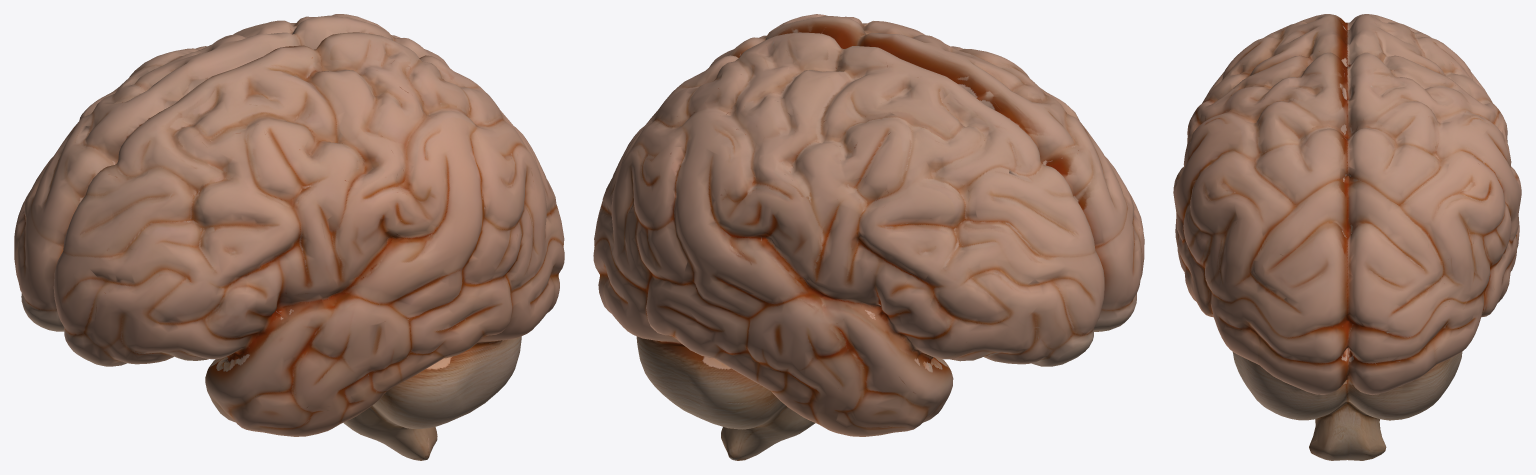
File: brains.fbx
3 renders of one model, left to right at view 1: azimuth 30°, elevation 25°; view 2: azimuth 150°, elevation 25°; view 3: azimuth 270°, elevation 25°, orthographic. The views are drawn at different scales.
Visible parts, largest first — view 1: brain_lp; view 2: brain_lp; view 3: brain_lp.
Part boxes in pixels (<box>): brain_lp: <box>14,14,564,460</box>; brain_lp: <box>593,14,1144,460</box>; brain_lp: <box>1173,14,1521,460</box>.
Bounding box in the file's own units: 1.18 × 1.01 × 0.8571.
